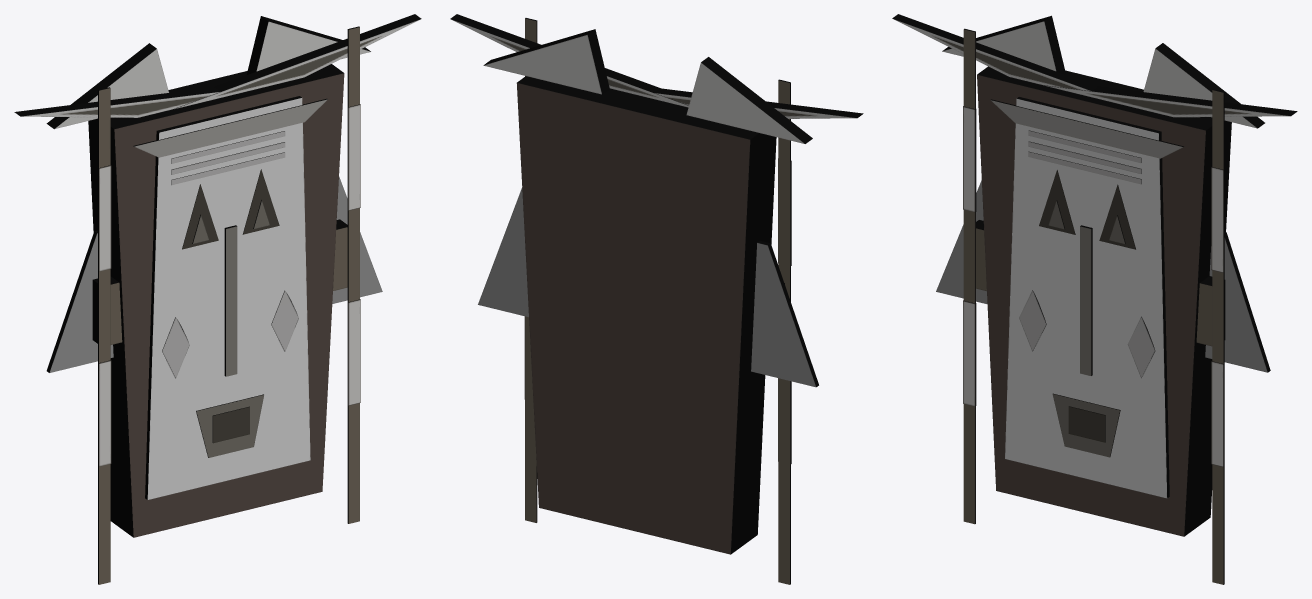
Rendered from Mask4.fbx.
The picture shows the model from 3 angles, left to right: view 1: azimuth 30°, elevation 25°; view 2: azimuth 150°, elevation 25°; view 3: azimuth 330°, elevation 25°; orthographic projection.
Parts seen in each view (by area): view 1: Masks-3a-3-export; view 2: Masks-3a-3-export; view 3: Masks-3a-3-export.
Part boxes in pixels (x1,y1,x2,y2): Masks-3a-3-export: (14,14,421,584); Masks-3a-3-export: (450,14,863,584); Masks-3a-3-export: (892,14,1297,584).
Size of the model in its own units: 118 by 144 by 15.63.
Materials: 1 (1 with a texture image).
